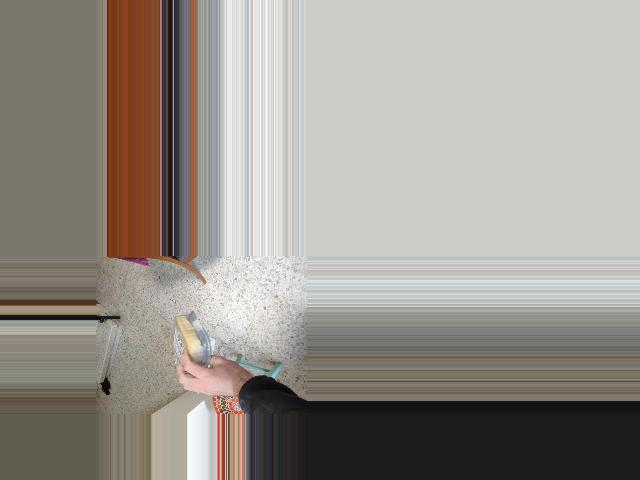cheese: (172, 310, 205, 376)
